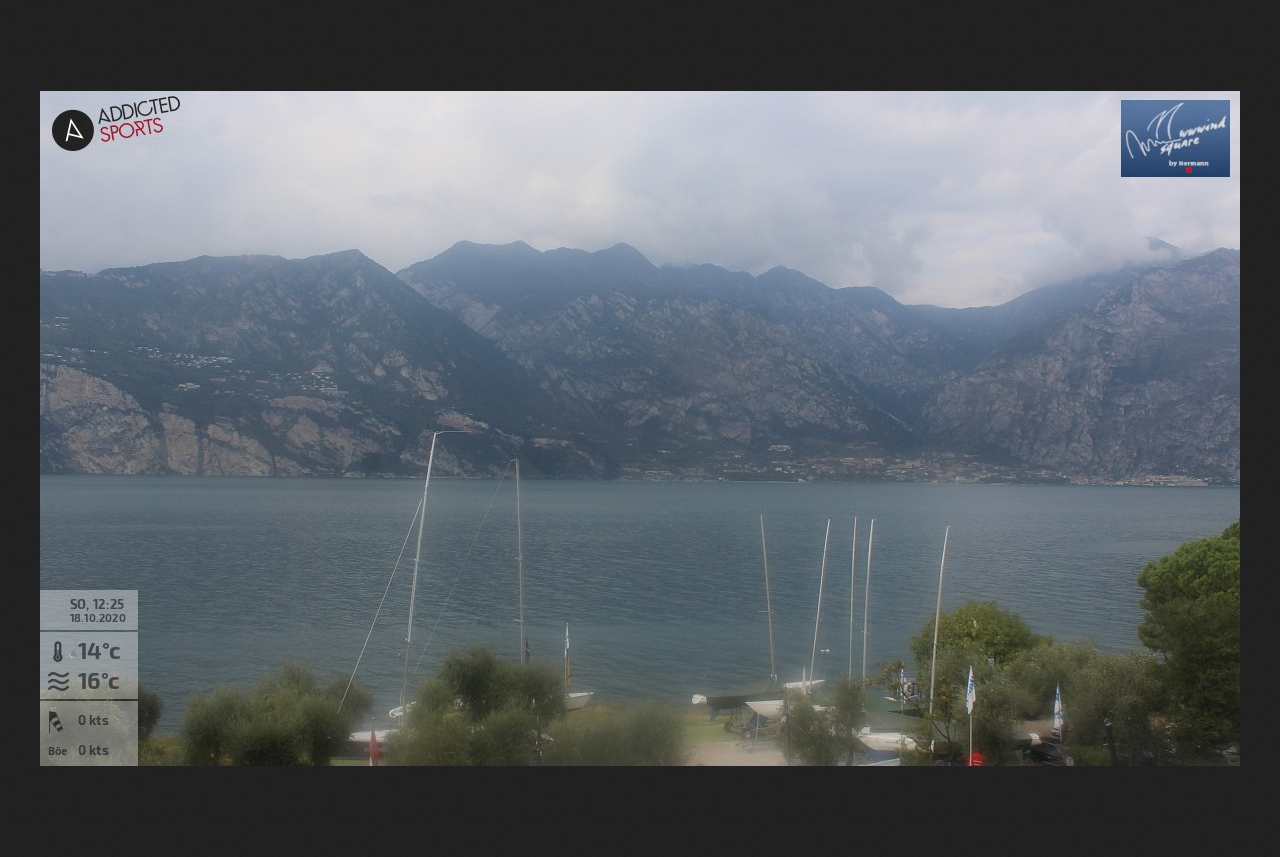no: (961, 663, 981, 719), (1052, 685, 1064, 728), (562, 625, 571, 678)
